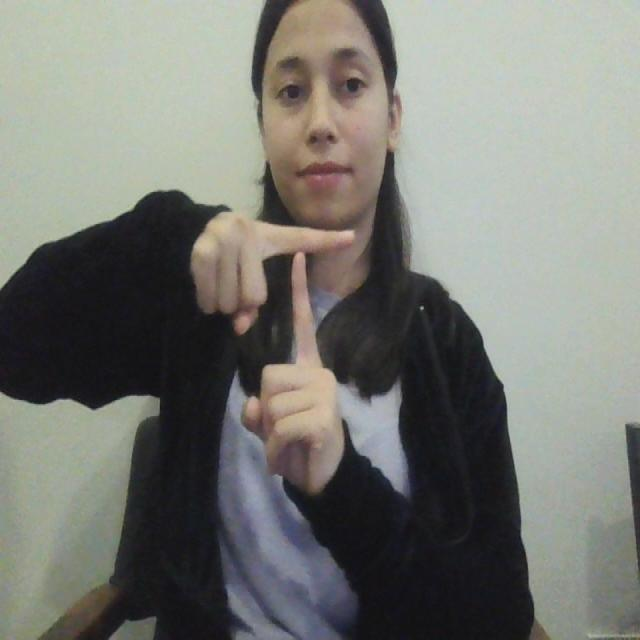Tesekkurler: (262, 205, 358, 376)
